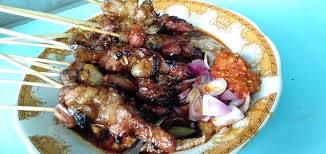sate: (37, 1, 264, 154)
